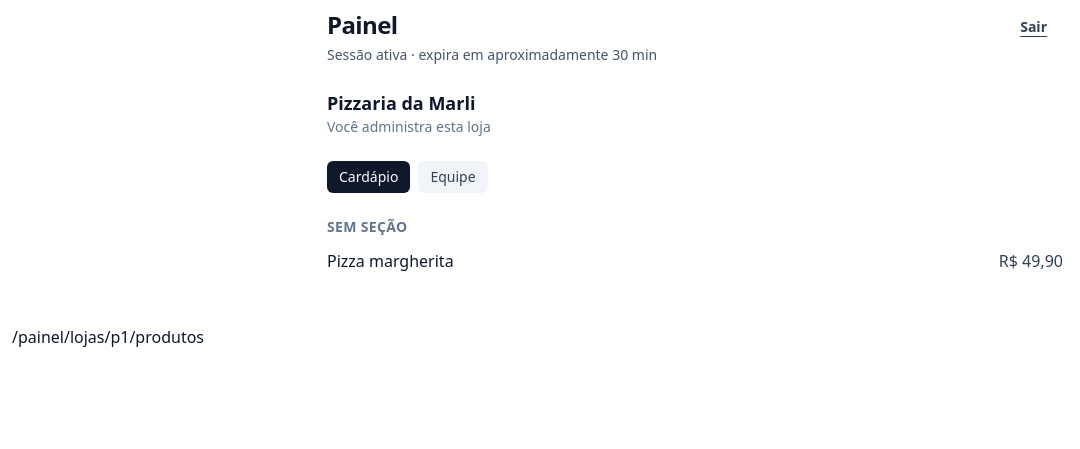
Test: PainelPage › C11 · o nome na lista leva ao endereço do produto
Click the button "Pizza margherita" at [390, 261], box [327,249,454,273]
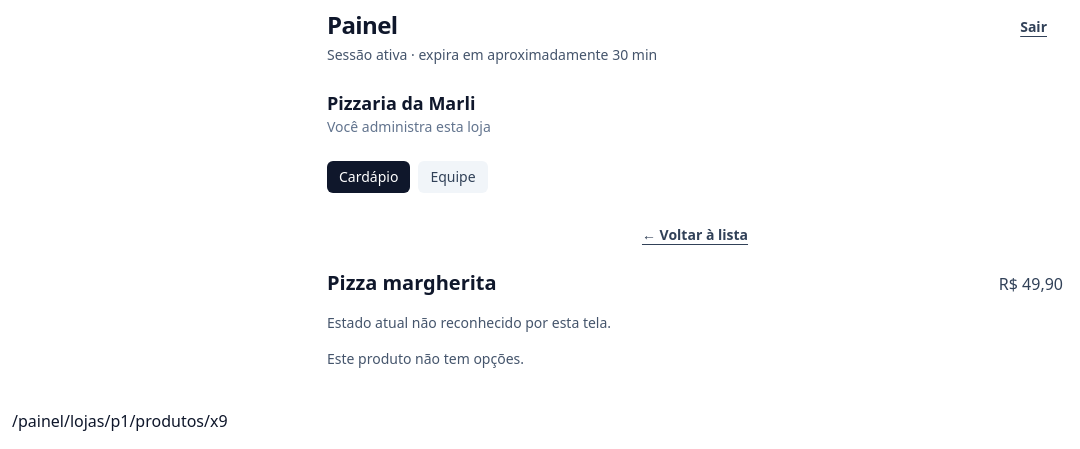
Expected: the text with test id "onde-estou" reads "/painel/lojas/p1/produtos/x9", [12,410,228,432]
